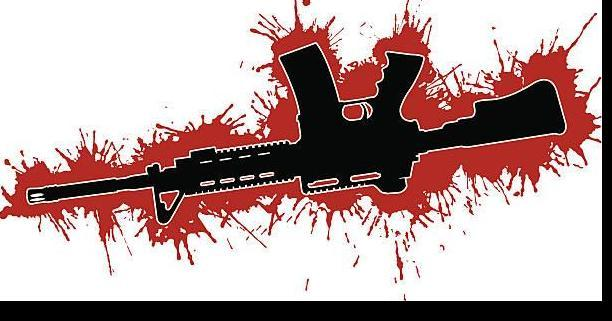larga: (25, 44, 566, 225)
